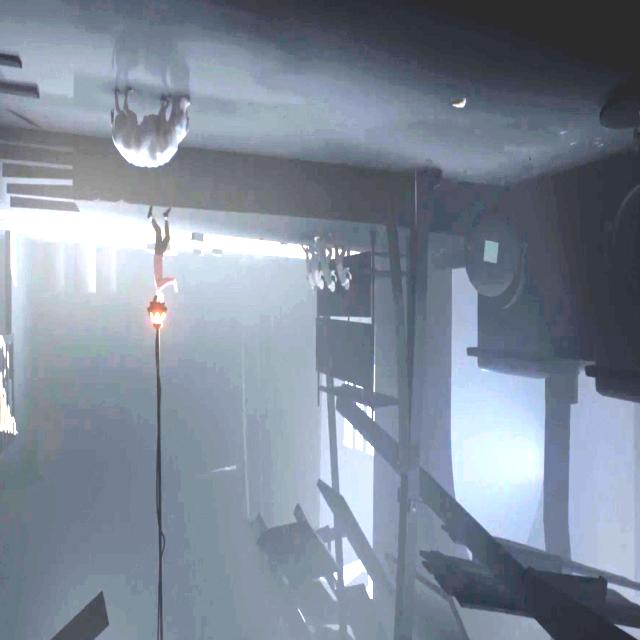boy: (147, 206, 178, 302)
zombie: (336, 237, 352, 291), (324, 237, 336, 292), (305, 243, 315, 289), (315, 247, 324, 290)
